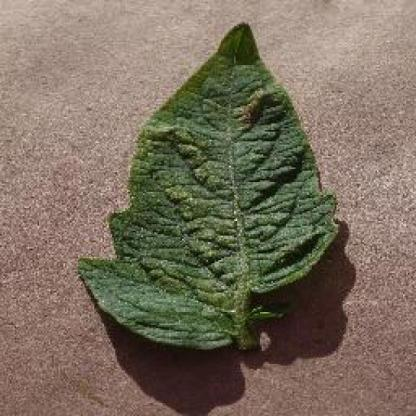Tomato_Spider_Mites: (79, 23, 339, 346)
